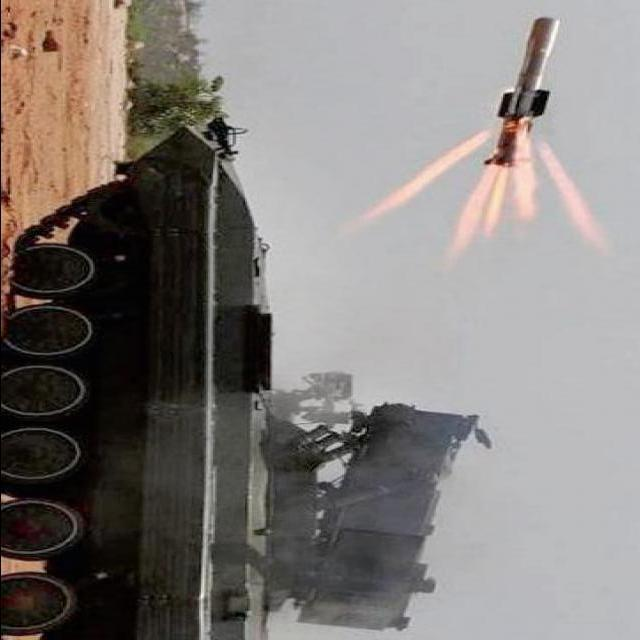missile: (489, 16, 556, 170)
